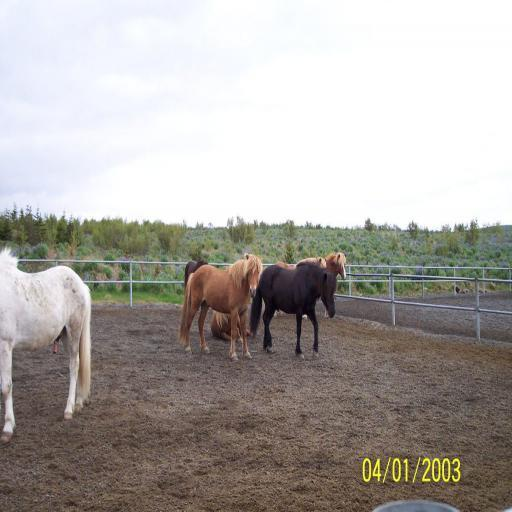Horse: (0, 244, 93, 444), (178, 252, 262, 364), (250, 256, 338, 361), (272, 252, 347, 318), (208, 300, 254, 341), (182, 256, 213, 314)
